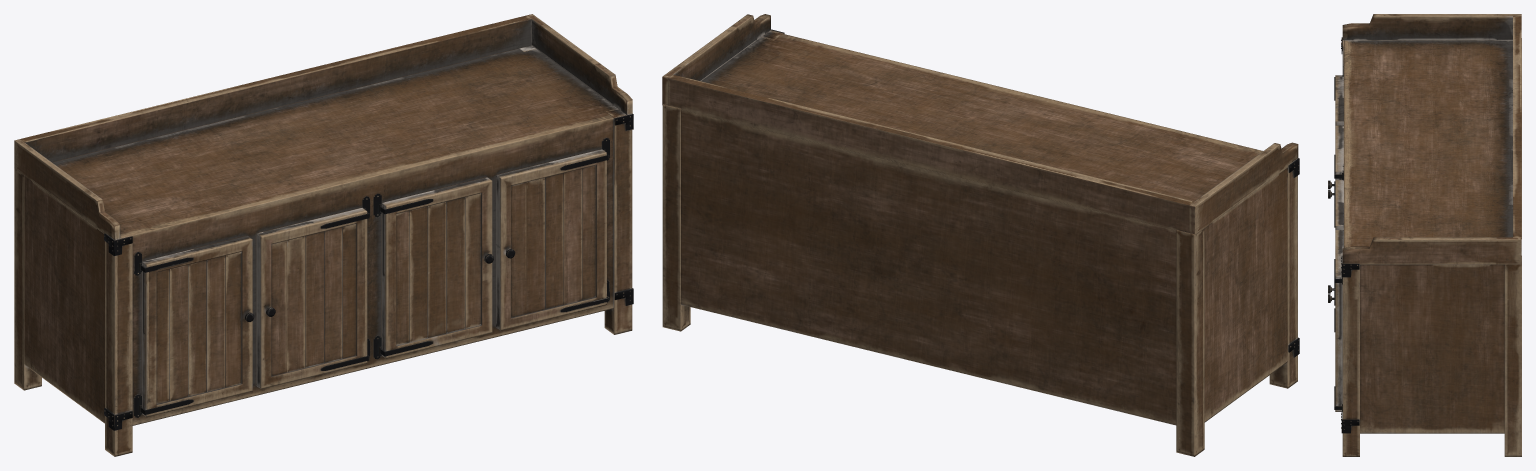
Rendered from old_wood_cabinets.fbx.
3 views of the same model, side by side, from view 1: azimuth 30°, elevation 25°; view 2: azimuth 150°, elevation 25°; view 3: azimuth 270°, elevation 25° (orthographic). The views are drawn at different scales.
Visible parts, largest first — view 1: old_cabinets; view 2: old_cabinets; view 3: old_cabinets.
Part boxes in pixels (x1,y1,x2,y2): old_cabinets: (14,14,633,456); old_cabinets: (662,14,1299,456); old_cabinets: (1328,14,1521,456).
Bounding box in the file's own units: 271 × 121 × 97.68.
1 material, 1 textured.
